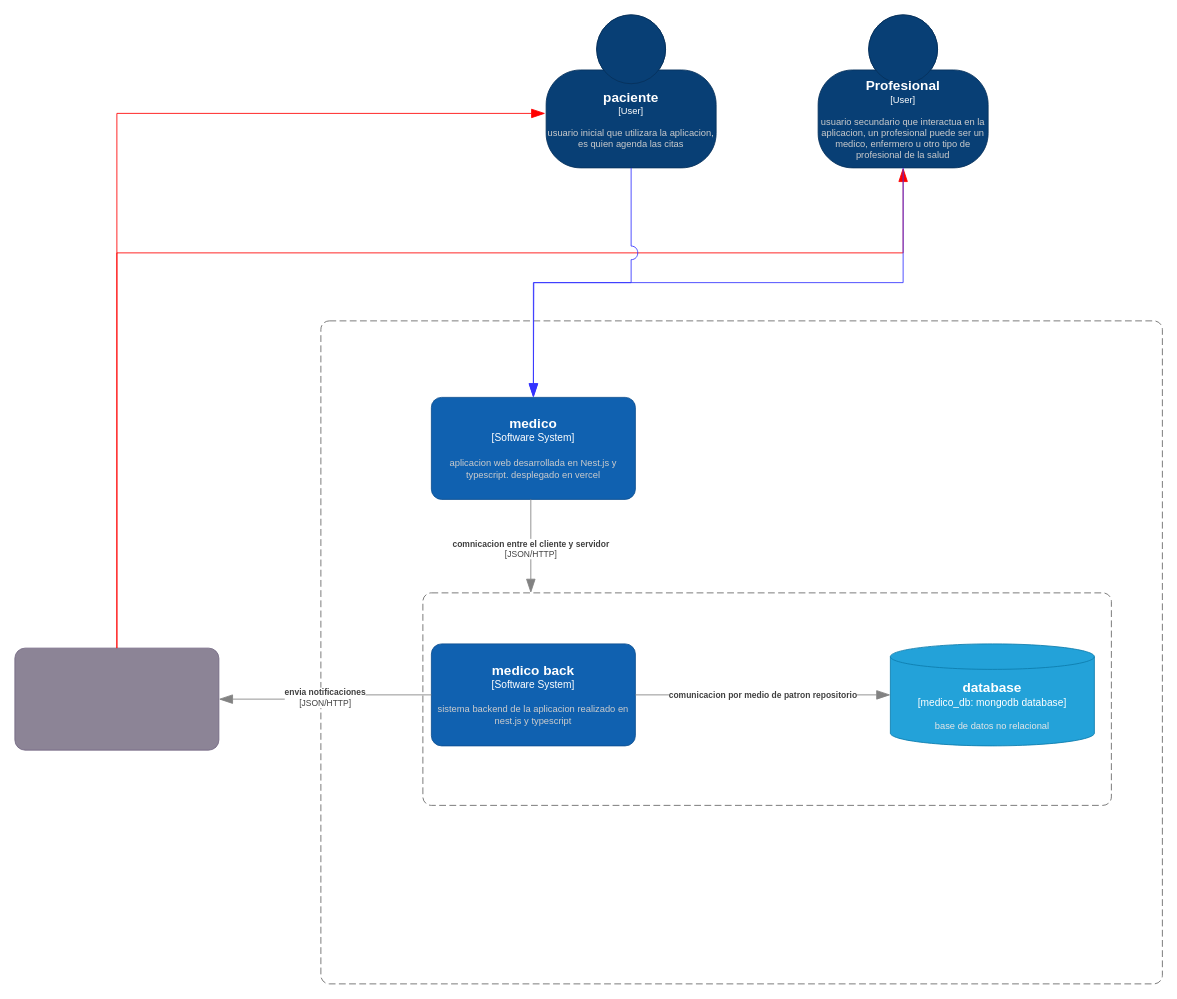
Some shapes in this 1177 by 999 pixel diagram are drawn without their labels. The box of each missing label's shape, as (x1, y1, x2, y2) in pixels:
docker container []: (422, 592, 1111, 805)
External system name [Software System] Description of external software system.: (14, 647, 219, 750)
medico [Container]: (320, 320, 1162, 984)
